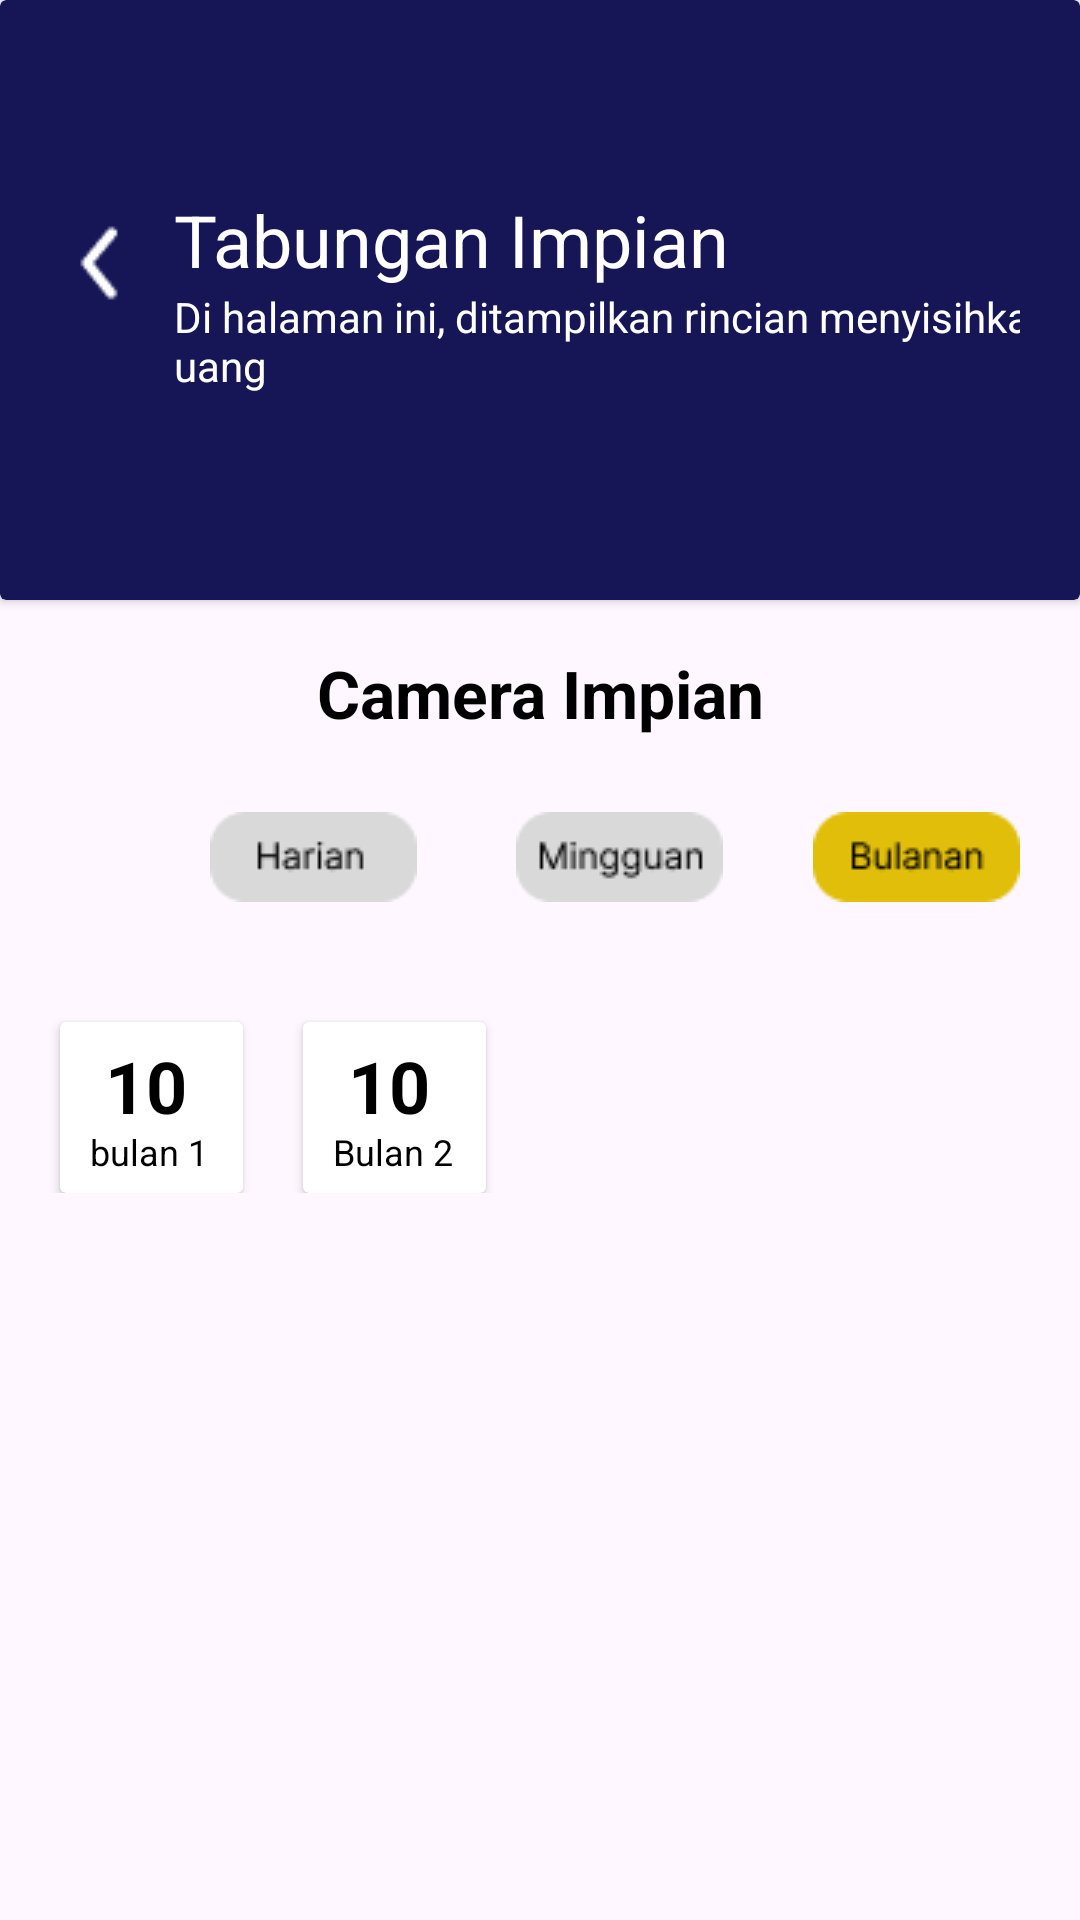

Where to tap for icons on this 1080×1920 app screen, as [x,y]:
back: [99,263]
